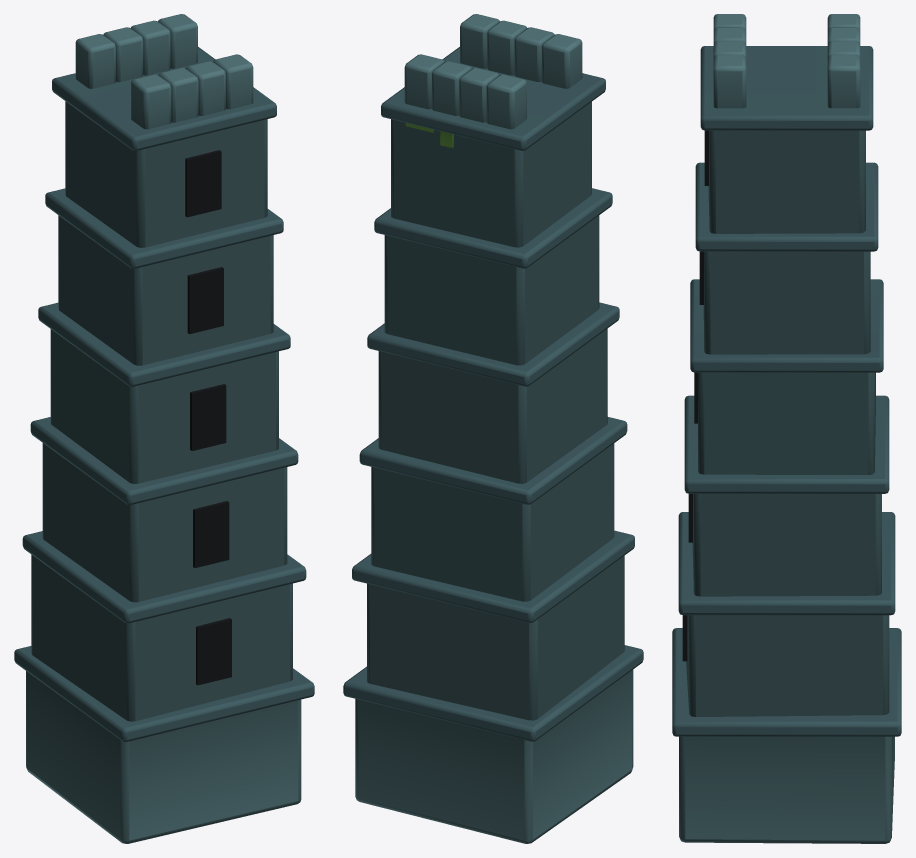
The model's file is ruin_tower.glb.
3 renders of one model, left to right at view 1: azimuth 30°, elevation 25°; view 2: azimuth 150°, elevation 25°; view 3: azimuth 270°, elevation 25°, orthographic. The views are drawn at different scales.
Visible parts, largest first — view 1: ruin_tower_mesh; view 2: ruin_tower_mesh; view 3: ruin_tower_mesh.
Part boxes in pixels (x1,y1,x2,y2): ruin_tower_mesh: (14, 14, 314, 843); ruin_tower_mesh: (343, 14, 643, 843); ruin_tower_mesh: (672, 14, 901, 843).
Bounding box in the file's own units: 2.8 × 10.25 × 2.8.
